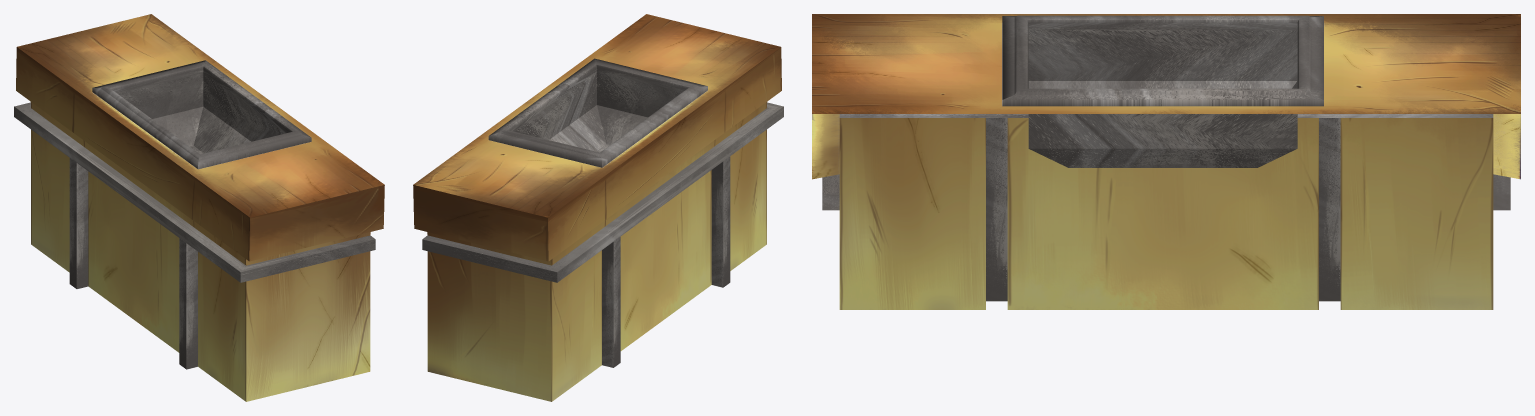
Rendered from Aanrecht.fbx.
3 views of the same model, side by side, from view 1: azimuth 30°, elevation 25°; view 2: azimuth 150°, elevation 25°; view 3: azimuth 270°, elevation 25° (orthographic). The views are drawn at different scales.
Parts seen in each view (by area): view 1: Aanrecht; view 2: Aanrecht; view 3: Aanrecht.
Part boxes in pixels (<box>): Aanrecht: <box>14,14,384,401</box>; Aanrecht: <box>413,14,783,401</box>; Aanrecht: <box>812,14,1520,309</box>.
Size of the model in its own units: 9.37 by 12.64 by 26.83.
